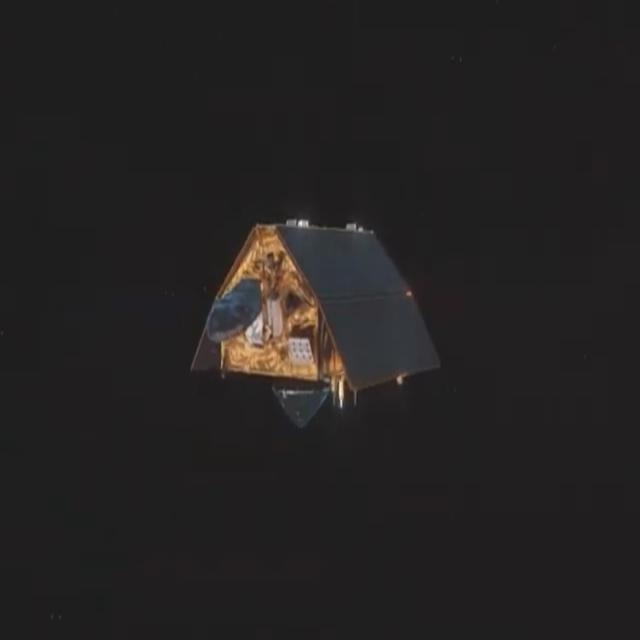satellite: (168, 175, 460, 478)
